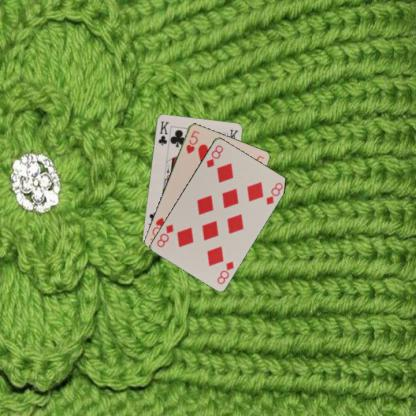5h: (183, 128, 201, 155)
8d: (214, 258, 235, 286), (203, 142, 224, 169)
Kc: (156, 119, 170, 146)
